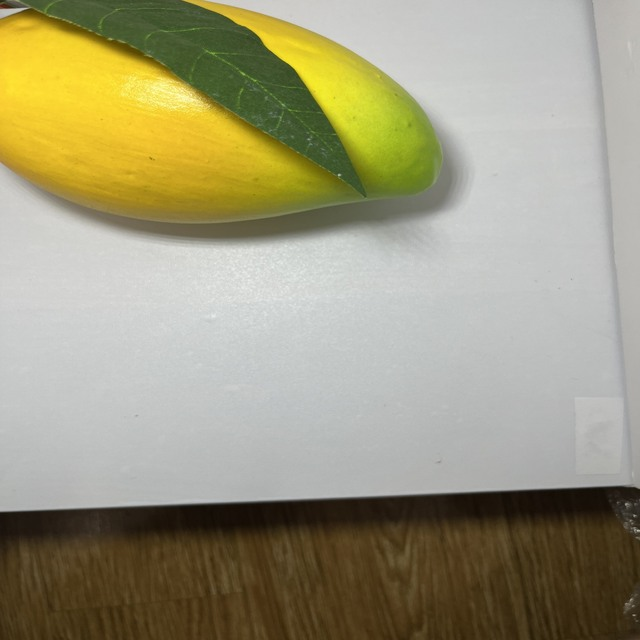Xoai: (0, 0, 447, 229)
